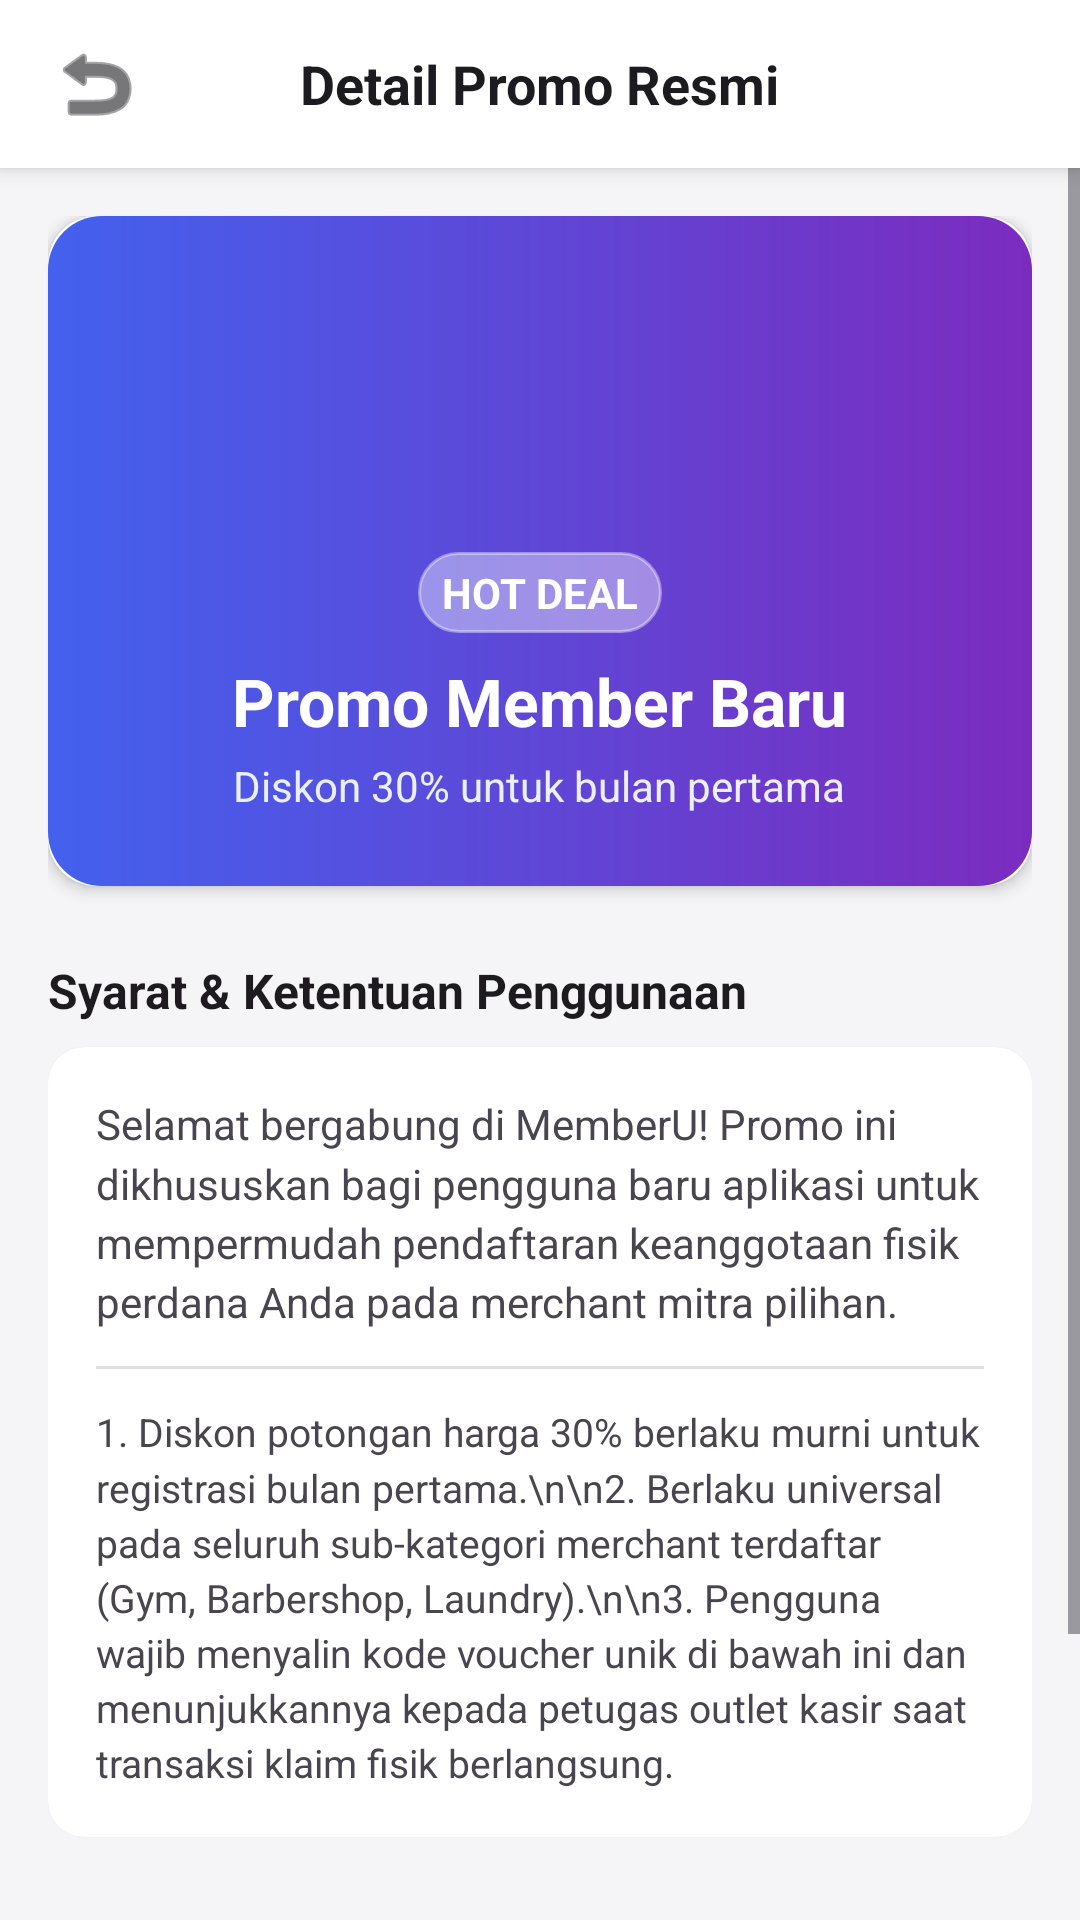

Screen size 1080w x 1920h. Icon name, then its center in pixels as (x,y):
revert: (97,84)
